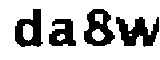8: (82, 5, 115, 52)
a: (48, 17, 78, 51)
d: (8, 7, 43, 51)
w: (116, 14, 160, 50)
